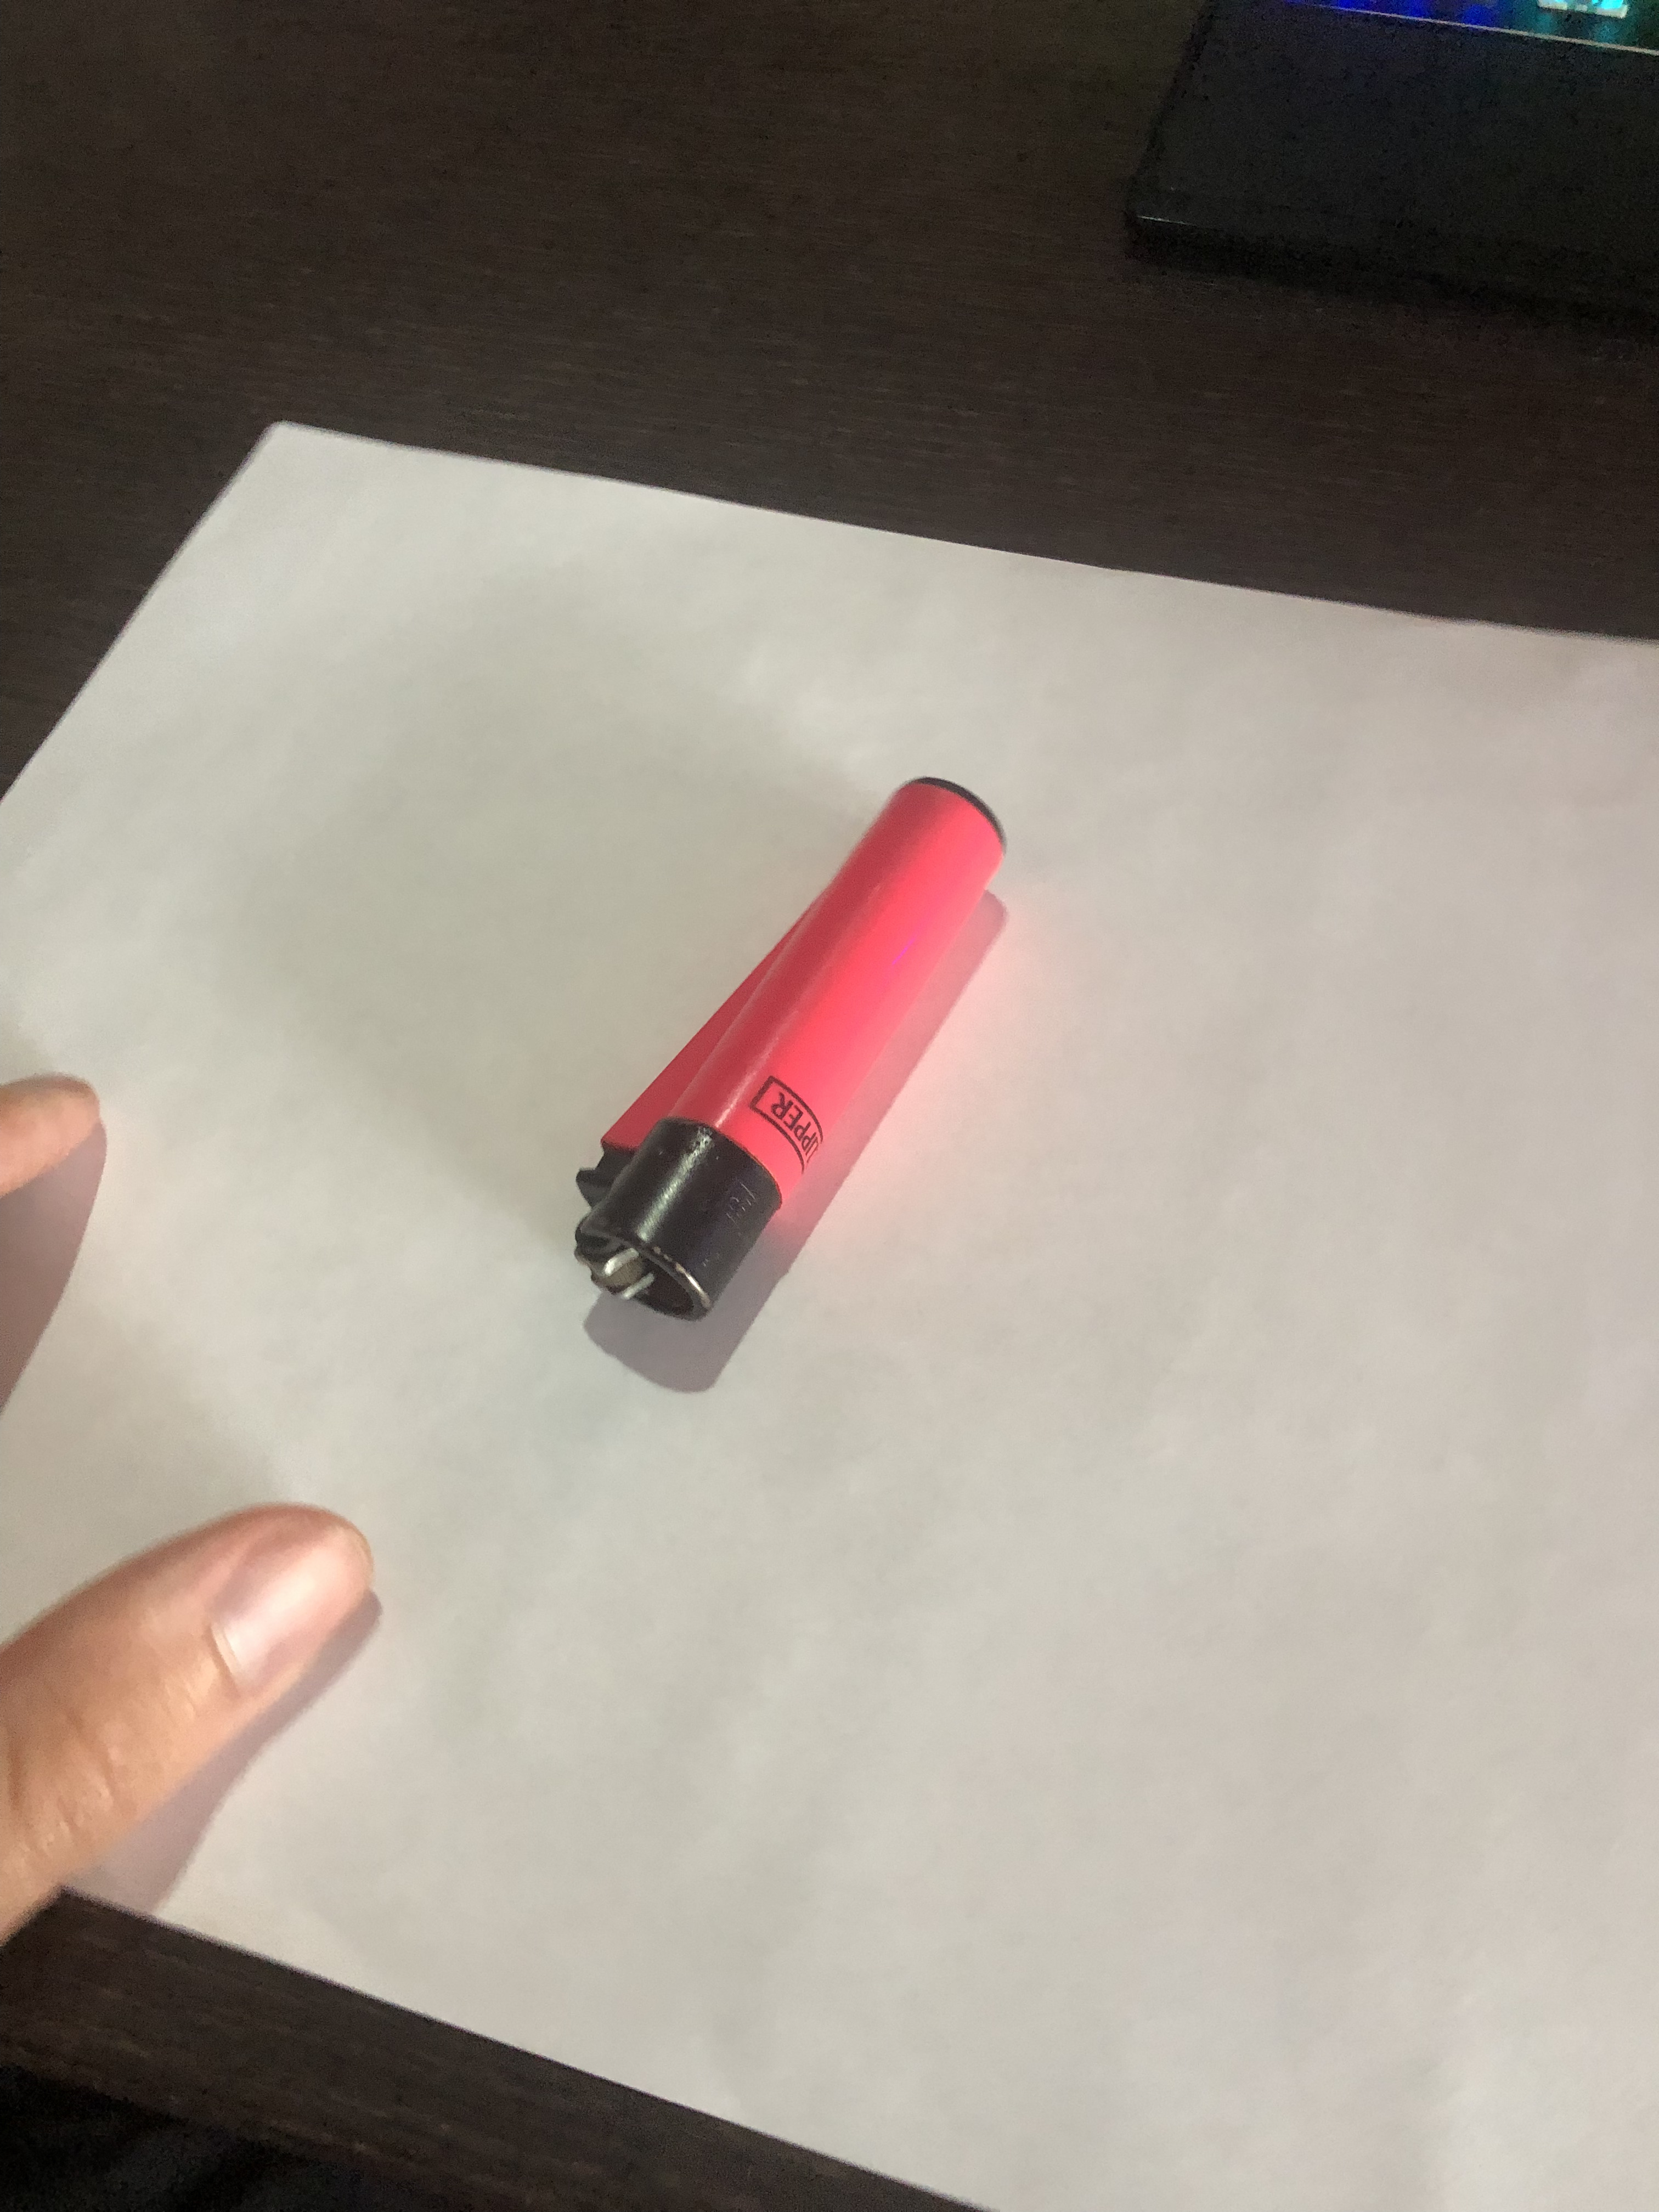Mechero: (563, 772, 1011, 1327)
